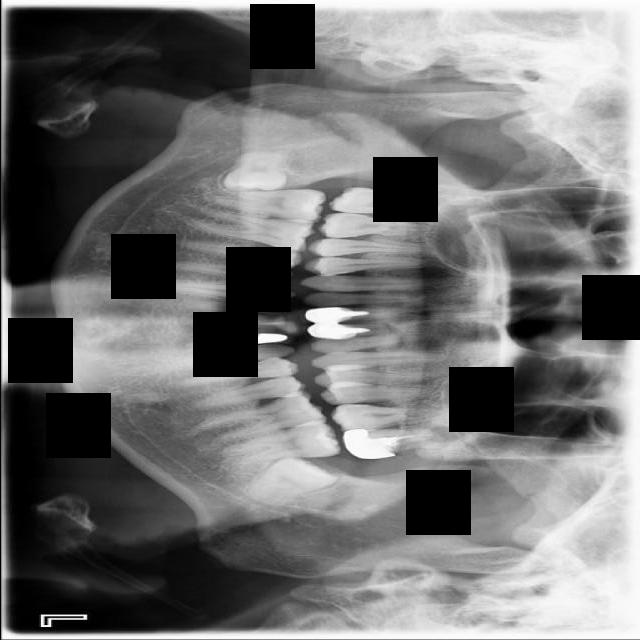52: (303, 306, 357, 341), (340, 428, 396, 460), (235, 332, 291, 345)
73: (366, 428, 458, 455), (340, 314, 415, 338), (340, 301, 414, 321), (184, 336, 240, 347), (53, 614, 68, 622)
BioHorizons Implant: (342, 428, 458, 460)
Biomet 3i Implant: (242, 439, 341, 516)
Blue Sky Bio Implant: (225, 418, 341, 467)
Caries: (326, 186, 449, 216)
Implant: (213, 188, 324, 223)
Keystone Dental Implant: (222, 150, 287, 192)
